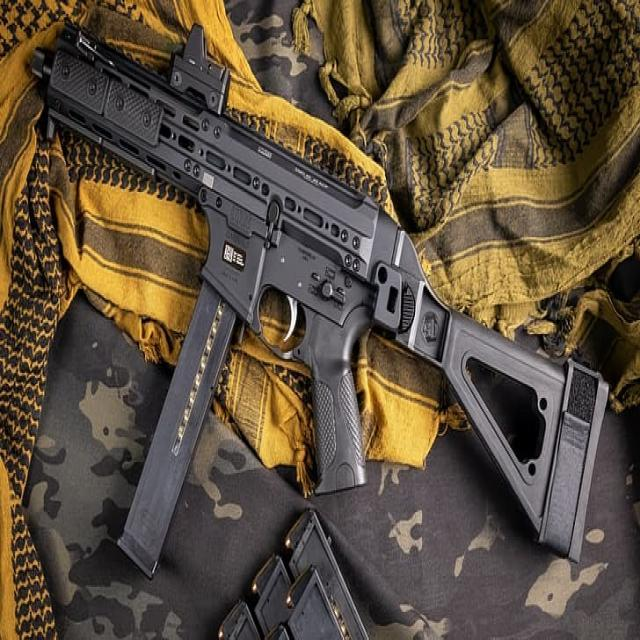smg: (23, 14, 618, 603)
